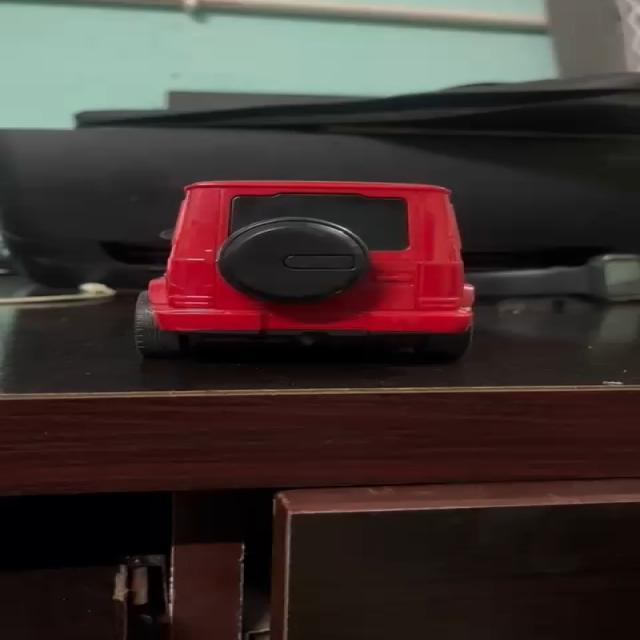light_vehicle: (121, 172, 484, 365)
